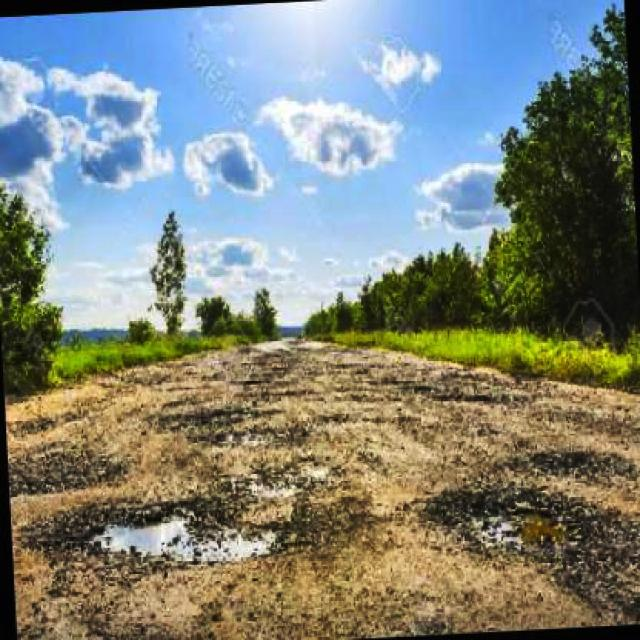pothole: (66, 503, 288, 566), (442, 483, 584, 568), (534, 442, 634, 484), (242, 458, 332, 496), (17, 457, 109, 492)
